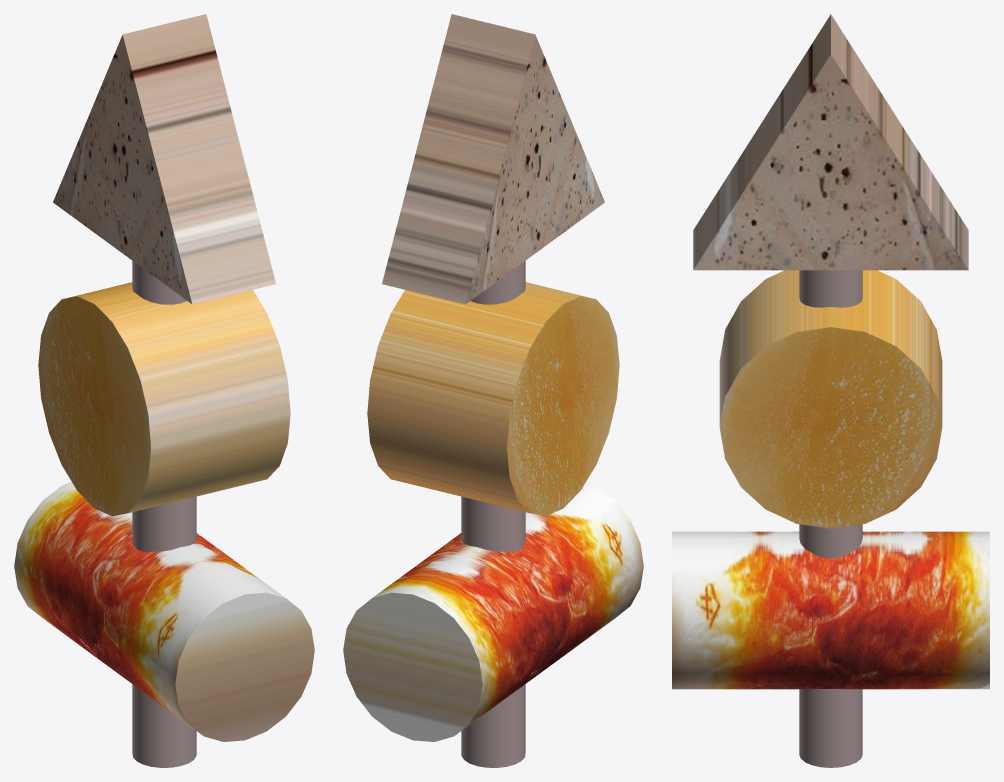
Rendered from Oden_02.fbx.
3 views of the same model, side by side, from view 1: azimuth 30°, elevation 25°; view 2: azimuth 150°, elevation 25°; view 3: azimuth 270°, elevation 25° (orthographic).
Visible parts, largest first — view 1: pCylinder5; view 2: pCylinder5; view 3: pCylinder5.
Part boxes in pixels (bbox=[...]): pCylinder5: bbox=[14, 14, 314, 767]; pCylinder5: bbox=[343, 14, 643, 767]; pCylinder5: bbox=[672, 14, 989, 767].
Bounding box in the file's own units: 1 × 5 × 2.
Materials: 2 (1 with a texture image).
